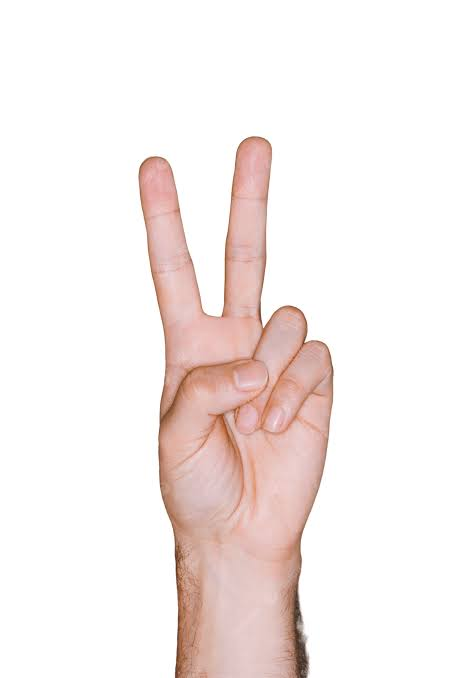peace_sign: (108, 113, 363, 543)
